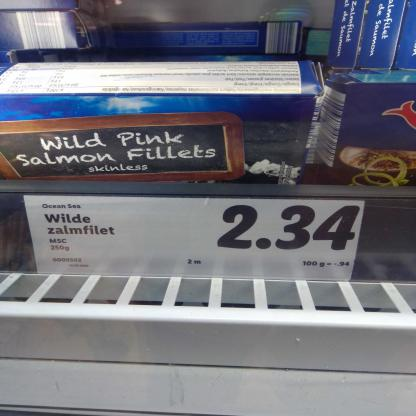prtg: (25, 195, 366, 283)
